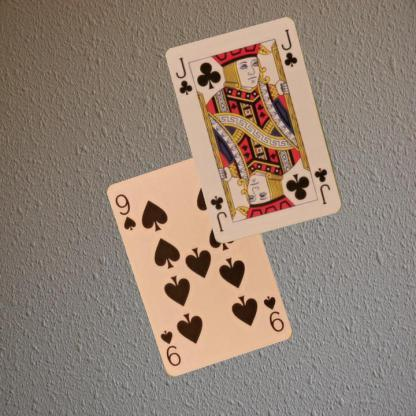9s: (261, 294, 286, 334), (113, 192, 138, 232)
Jc: (310, 165, 332, 207), (173, 54, 194, 96)
